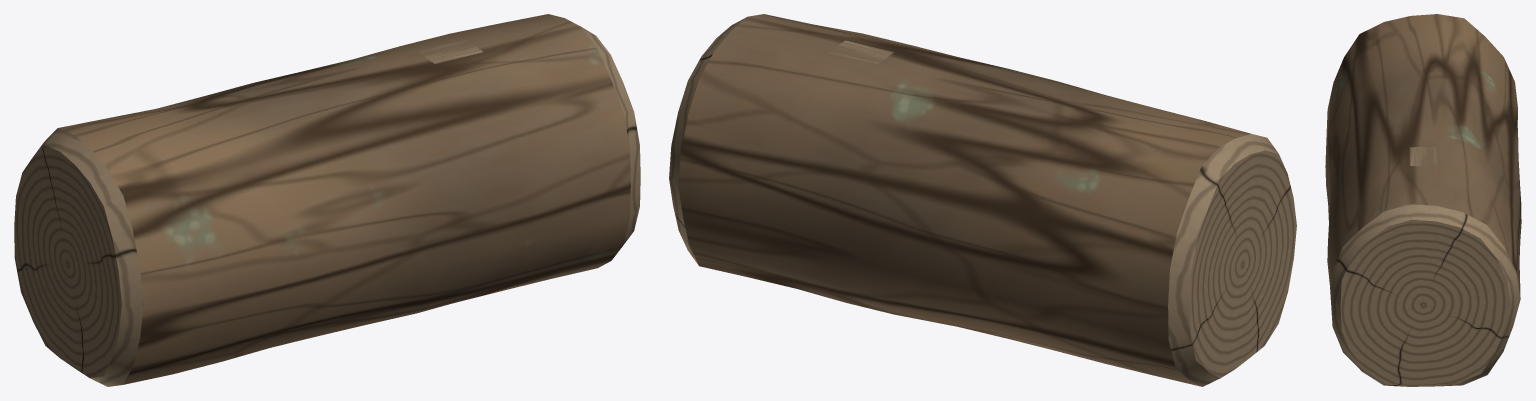
File: fm_log_seat_short.glb
The picture shows the model from 3 angles, left to right: view 1: azimuth 30°, elevation 25°; view 2: azimuth 150°, elevation 25°; view 3: azimuth 270°, elevation 25°; orthographic projection. The views are drawn at different scales.
Parts seen in each view (by area): view 1: fm_log_seat_short; view 2: fm_log_seat_short; view 3: fm_log_seat_short.
Boxes of the visible parts, x1,y1,x2,y2 form: fm_log_seat_short: (14,14,640,386); fm_log_seat_short: (669,14,1296,386); fm_log_seat_short: (1325,14,1521,386).
Size of the model in its own units: 1 by 0.4221 by 0.4096.
1 material, 1 textured.
